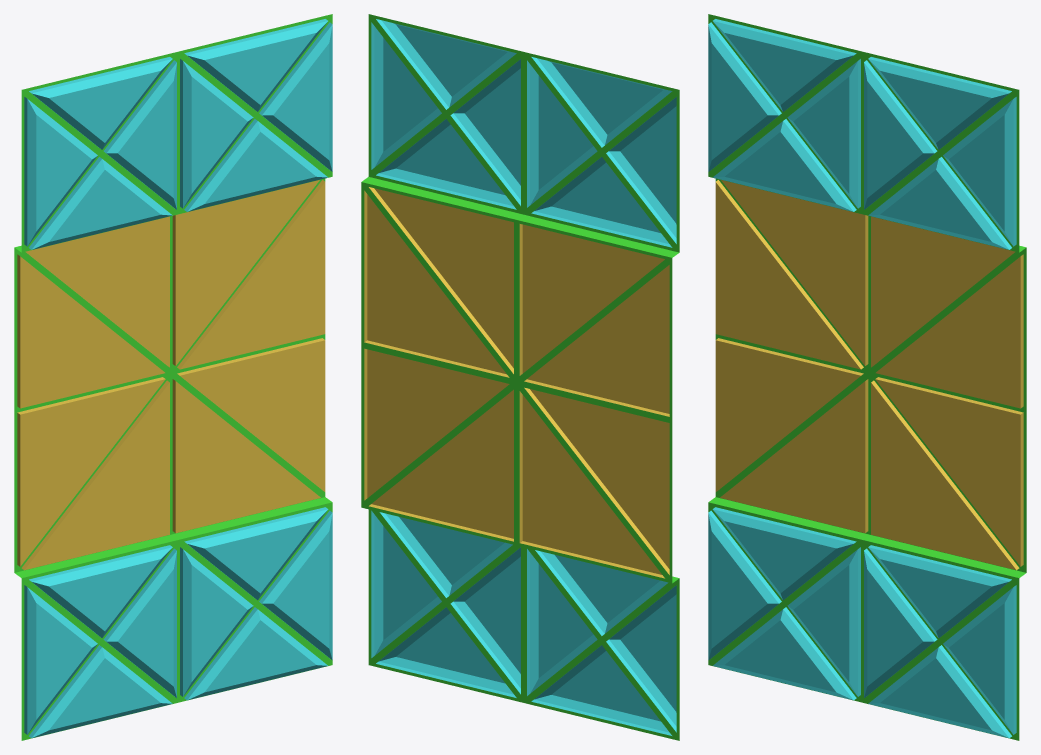
File: Wall_46_B.fbx
3 views of the same model, side by side, from view 1: azimuth 30°, elevation 25°; view 2: azimuth 150°, elevation 25°; view 3: azimuth 330°, elevation 25° (orthographic).
Parts seen in each view (by area): view 1: Wall_46_B; view 2: Wall_46_B; view 3: Wall_46_B.
Boxes of the visible parts, left/top/right/bottom form: Wall_46_B: left=14, top=14, right=332, bottom=740; Wall_46_B: left=361, top=14, right=679, bottom=740; Wall_46_B: left=708, top=14, right=1026, bottom=740.
Size of the model in its own units: 229 by 457 by 16.33.
